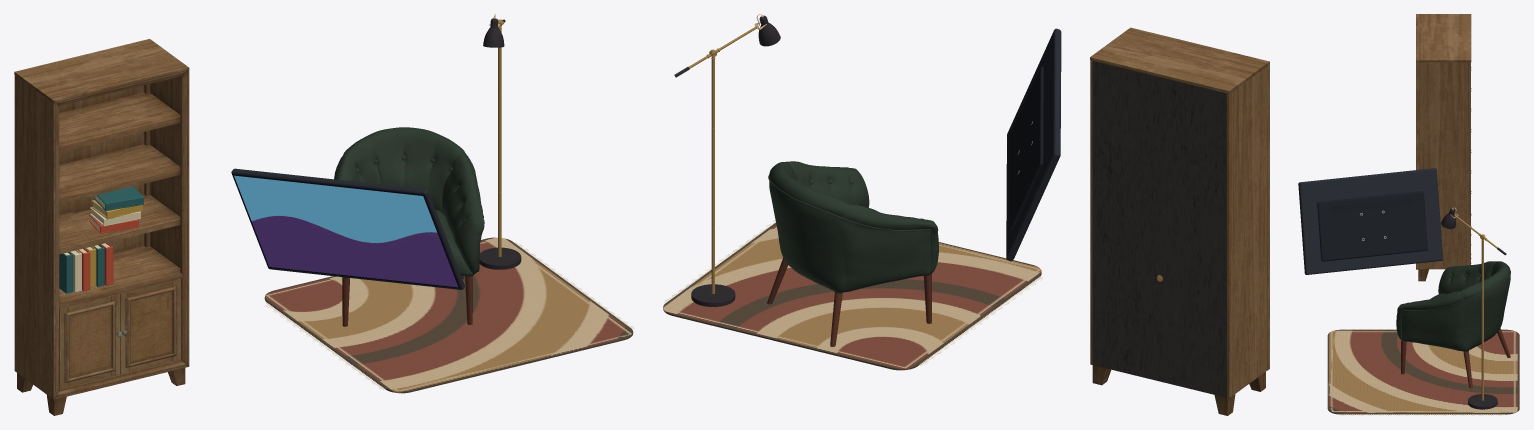
Rendered from library.glb.
The picture shows the model from 3 angles, left to right: view 1: azimuth 30°, elevation 25°; view 2: azimuth 150°, elevation 25°; view 3: azimuth 270°, elevation 25°; orthographic projection. The views are drawn at different scales.
Visible parts, largest first — view 1: Bookcase, Flatwoven pile, Reading-chair, TV / active picture.004, TV / active picture.005, TV / graphite frame.002, Floor-lamp, TV / glass surround.002, Knotted fringe; view 2: Bookcase, Flatwoven pile, Reading-chair, TV / graphite frame.002, TV / rear enclosure.002, Floor-lamp, Knotted fringe; view 3: Flatwoven pile, Bookcase, Reading-chair, TV / graphite frame.002, TV / rear enclosure.002, Floor-lamp, TV / cooling louvres.002, Knotted fringe.
Part boxes in pixels (<box>): Bookcase: <box>14,39,189,415</box>; Flatwoven pile: <box>264,237,633,393</box>; Reading-chair: <box>334,127,484,326</box>; TV / active picture.004: <box>234,175,363,276</box>; TV / active picture.005: <box>329,186,458,287</box>; TV / graphite frame.002: <box>231,168,464,289</box>; Floor-lamp: <box>479,14,521,269</box>; TV / glass surround.002: <box>232,173,460,288</box>; Knotted fringe: <box>266,242,634,389</box>; Bookcase: <box>1090,27,1269,415</box>; Flatwoven pile: <box>663,223,1041,370</box>; Reading-chair: <box>767,161,938,346</box>; TV / graphite frame.002: <box>1006,28,1061,261</box>; TV / rear enclosure.002: <box>1009,66,1043,231</box>; Floor-lamp: <box>674,14,780,306</box>; Knotted fringe: <box>664,220,1042,365</box>; Flatwoven pile: <box>1327,329,1519,414</box>; Bookcase: <box>1416,14,1471,281</box>; Reading-chair: <box>1396,261,1510,388</box>; TV / graphite frame.002: <box>1298,168,1443,274</box>; TV / rear enclosure.002: <box>1317,191,1427,261</box>; Floor-lamp: <box>1441,207,1506,409</box>; TV / cooling louvres.002: <box>1330,199,1413,212</box>; Knotted fringe: <box>1340,329,1504,415</box>.
Size of the model in its own units: 13.46 by 7.72 by 6.98.
16 materials, 6 textured.
